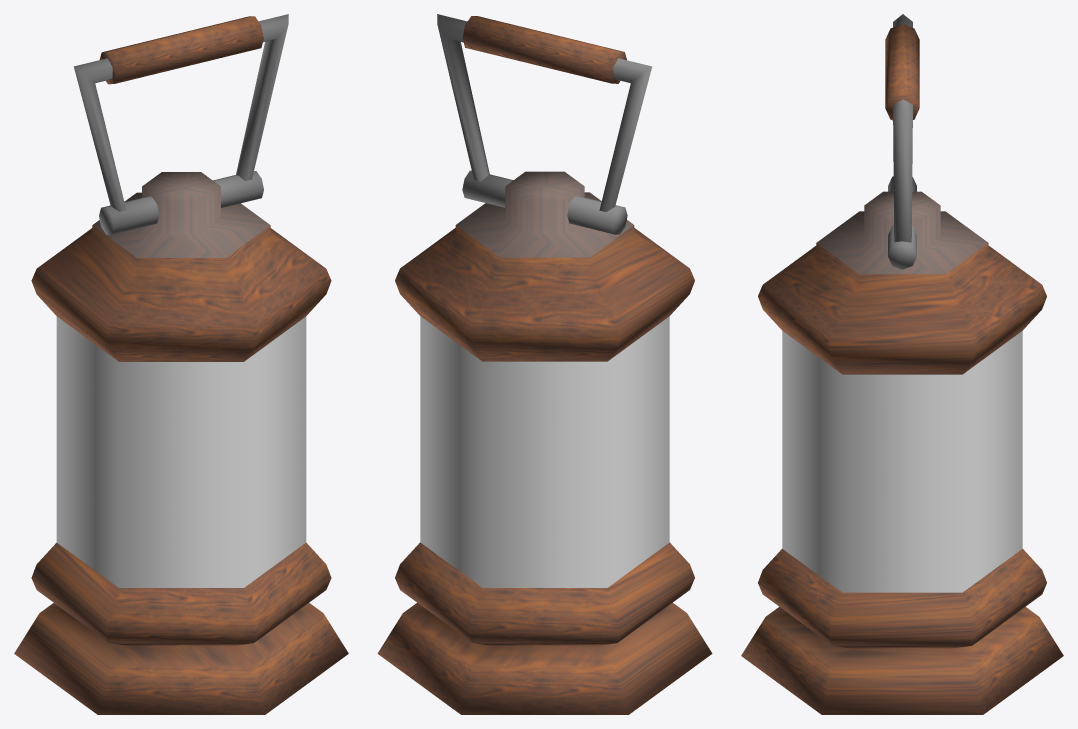
The model's file is Rantan.fbx.
3 views of the same model, side by side, from view 1: azimuth 30°, elevation 25°; view 2: azimuth 150°, elevation 25°; view 3: azimuth 270°, elevation 25° (orthographic). The views are drawn at different scales.
Visible parts, largest first — view 1: obj1, obj5, obj2; view 2: obj1, obj5, obj2; view 3: obj1, obj5, obj2.
Part boxes in pixels (x1,y1,x2,y2): obj1: [14, 172, 348, 714]; obj5: [56, 316, 306, 587]; obj2: [73, 14, 288, 234]; obj1: [377, 171, 712, 714]; obj5: [420, 316, 669, 587]; obj2: [437, 14, 652, 234]; obj1: [741, 191, 1063, 714]; obj5: [782, 331, 1022, 592]; obj2: [885, 14, 919, 269].
Size of the model in its own units: 2.32 by 5.48 by 2.68.
1 material, 1 textured.
